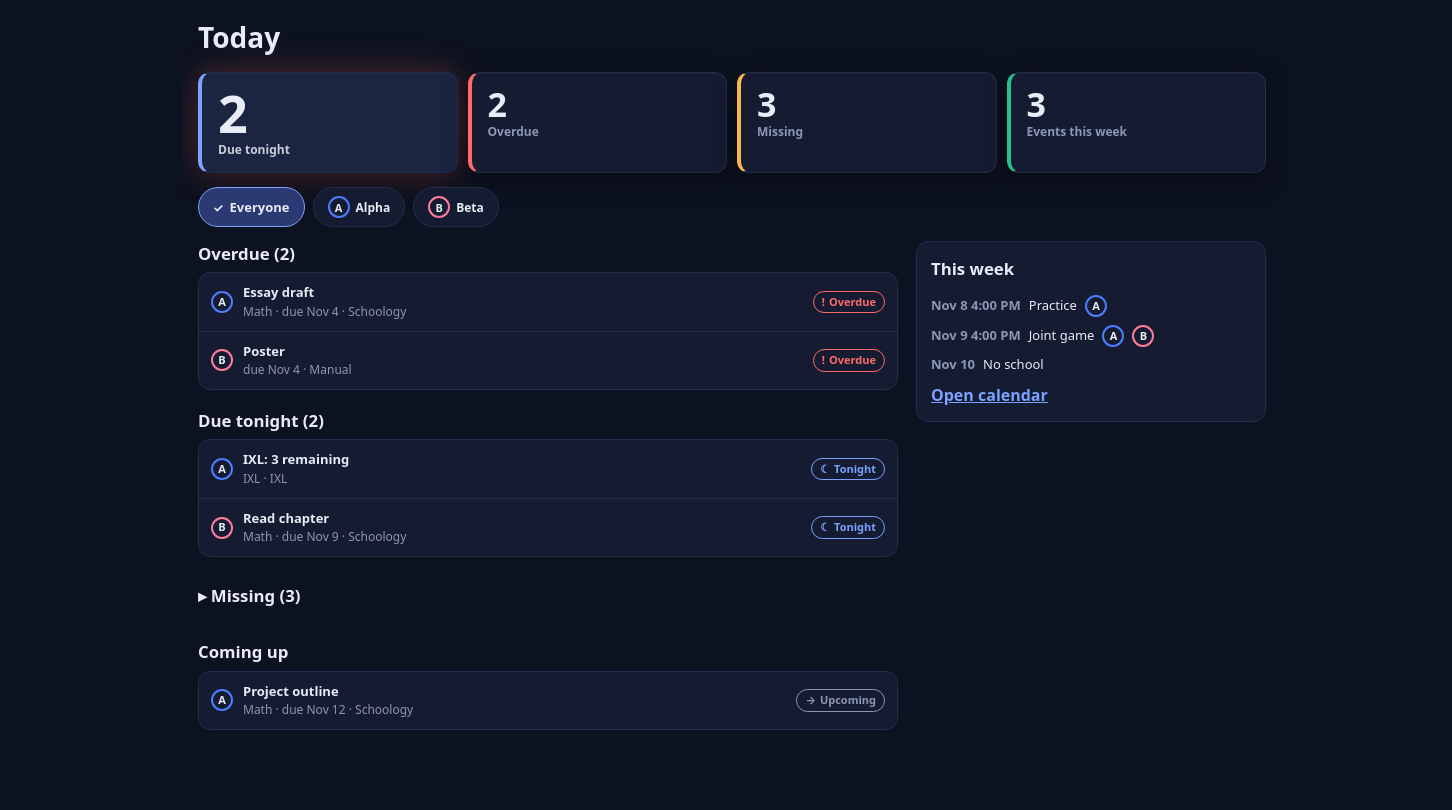
Scenario: kid filter narrows everything and updates ?kid=
Expected: the heading "Today" is shown, [198, 18, 280, 56]
Expected: the element named "filter by child" is shown, [198, 187, 499, 227]
Click the button "B Beta" at (456, 207), box [413, 187, 499, 227]
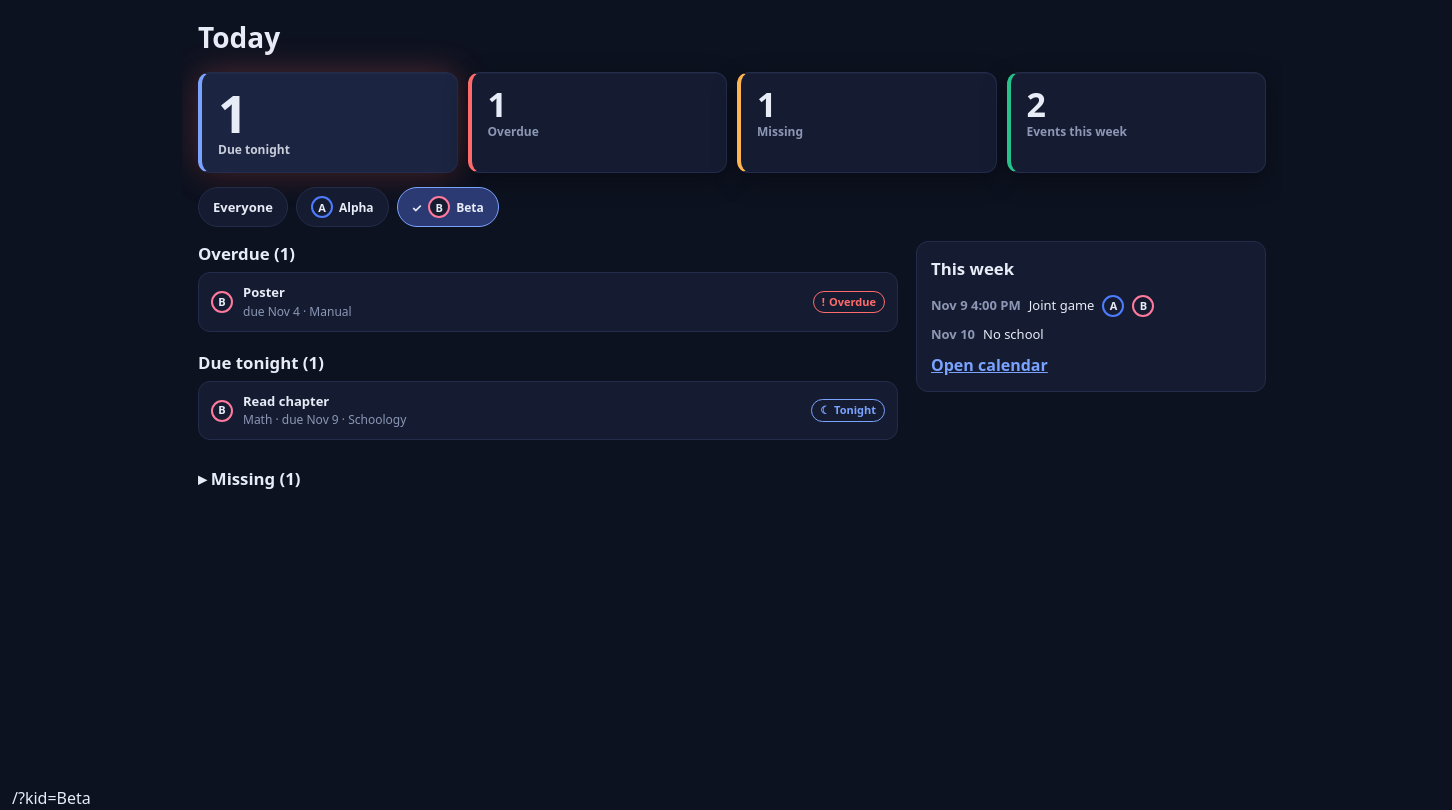
Result: the text with test id "where" reads "/?kid=Beta" at [12, 787, 91, 809]
Result: the text "Essay draft" is gone
Result: the 2nd text "1" is shown at [488, 87, 507, 121]
